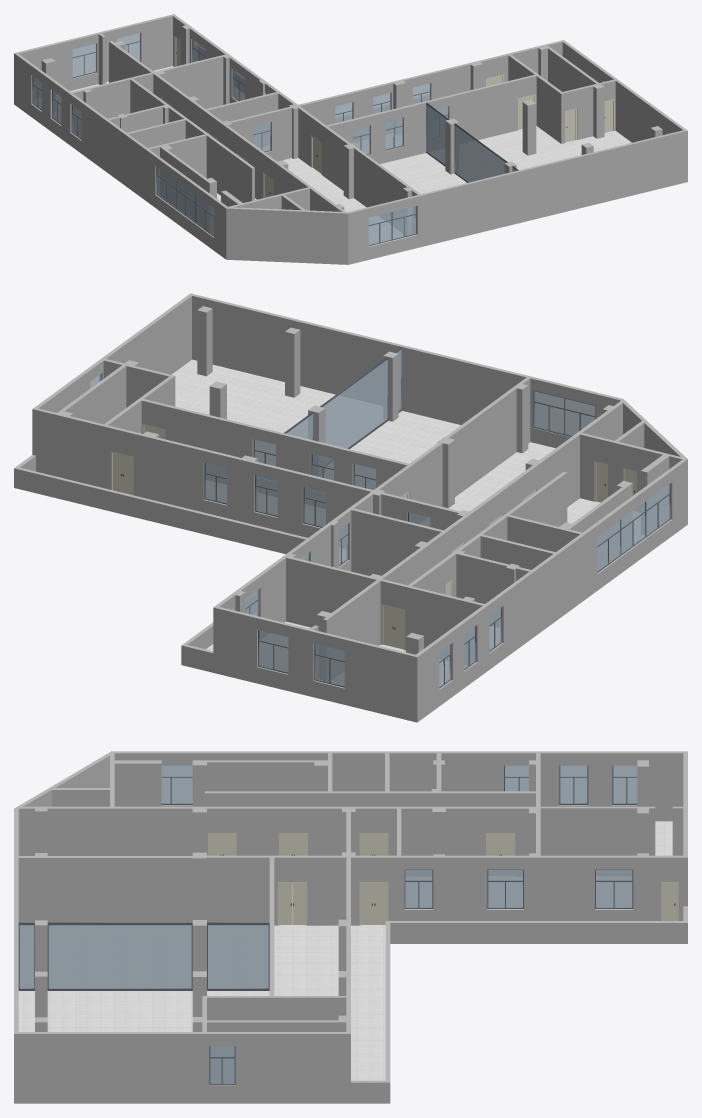
Rendered from floorThree.FBX.
The picture shows the model from 3 angles, top to bottom: view 1: azimuth 30°, elevation 25°; view 2: azimuth 150°, elevation 25°; view 3: azimuth 270°, elevation 25°; orthographic projection. The views are drawn at different scales.
Visible parts, largest first — view 1: 三层; view 2: 三层; view 3: 三层.
Part boxes in pixels (box(x1,y1,x2,y2)): 三层: box(14, 14, 687, 264); 三层: box(14, 293, 687, 722); 三层: box(14, 751, 687, 1103).
Bounding box in the file's own units: 34770 × 4000 × 35070.
6 materials, 1 textured.
